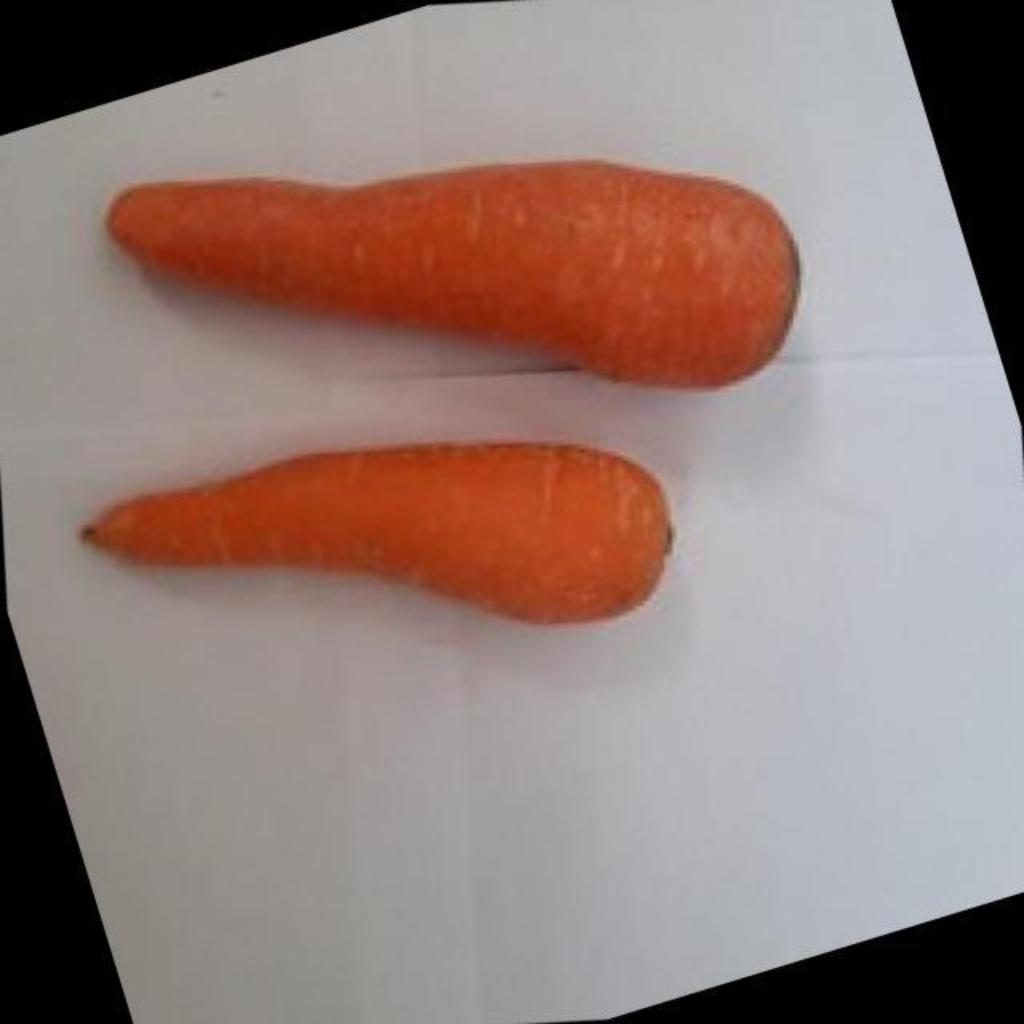carrot: (110, 160, 800, 385), (82, 444, 672, 621)
